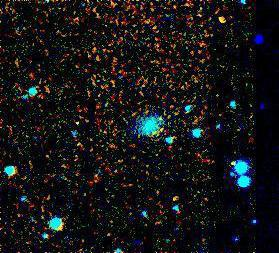star: (212, 152, 242, 182)
